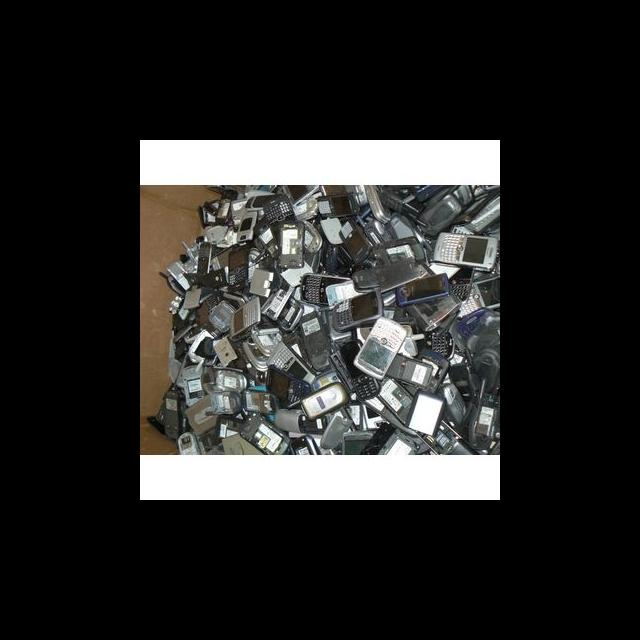metal: (350, 309, 407, 383), (427, 225, 499, 273), (400, 381, 450, 442), (328, 286, 389, 335), (295, 267, 369, 307), (261, 336, 319, 387), (236, 405, 295, 454), (258, 362, 315, 410), (390, 270, 456, 311), (295, 376, 351, 422), (334, 212, 378, 267), (269, 214, 309, 272), (222, 293, 268, 342), (219, 240, 259, 295), (156, 381, 190, 439), (198, 385, 247, 418), (229, 207, 261, 242), (171, 426, 208, 454)
